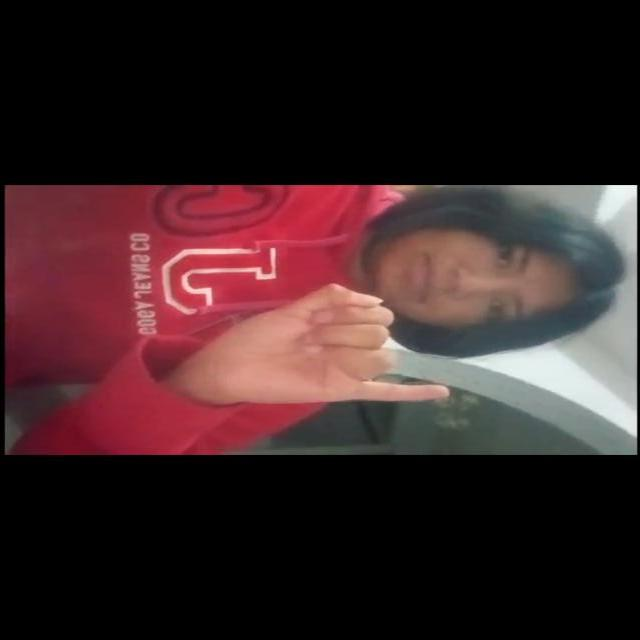I: (156, 280, 472, 431)
